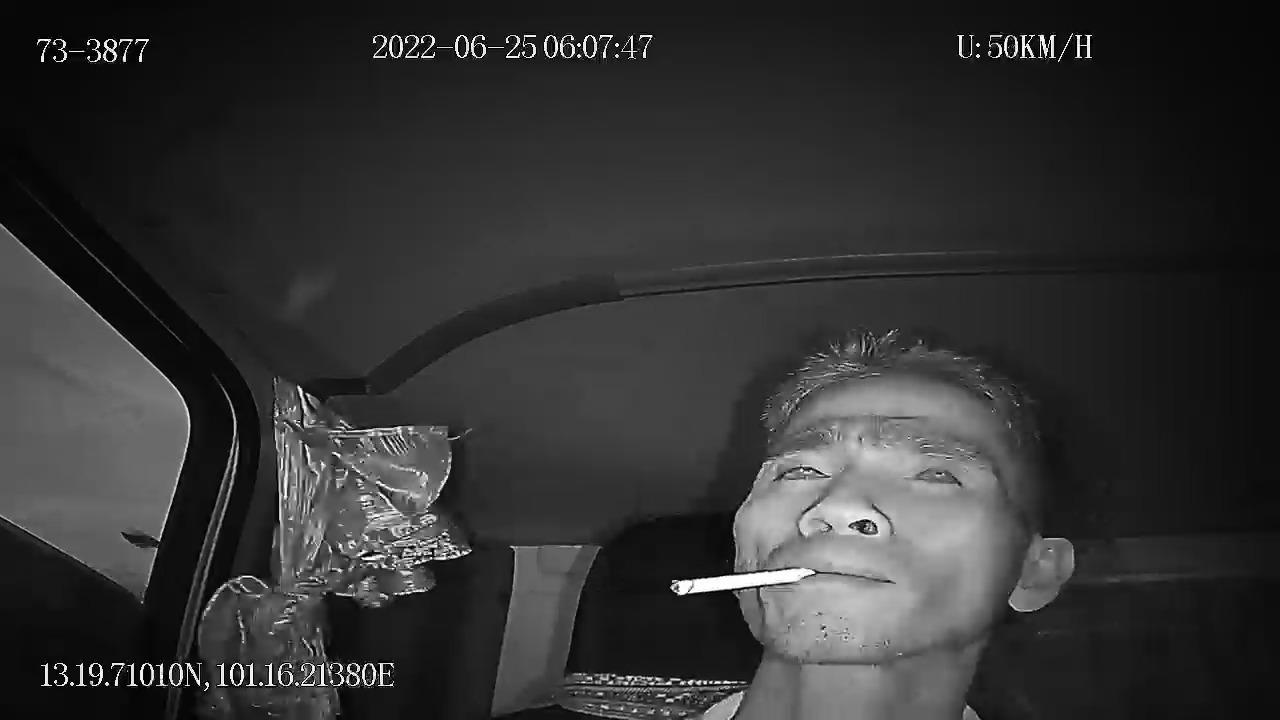Smoking: (656, 539, 832, 615)
